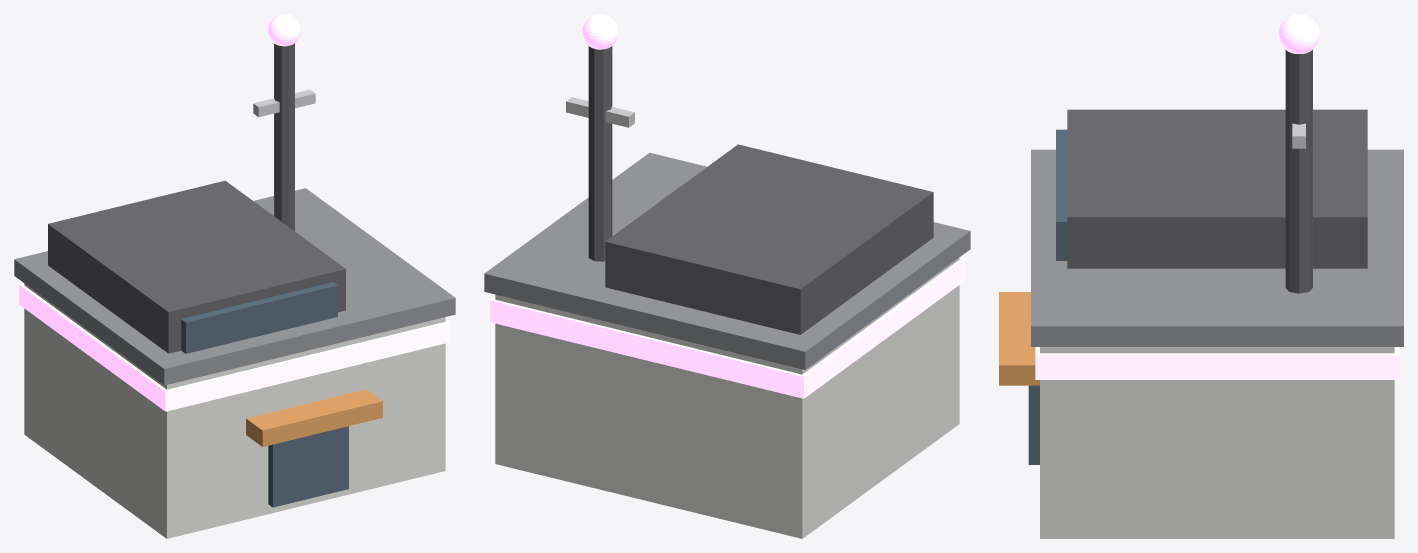
Rendered from media_studio.glb.
The picture shows the model from 3 angles, left to right: view 1: azimuth 30°, elevation 25°; view 2: azimuth 150°, elevation 25°; view 3: azimuth 270°, elevation 25°; orthographic projection. The views are drawn at different scales.
Visible parts, largest first — view 1: hall, loft, deck, neon_band, skylight, stage_door, marquee, tower, Beacon, crossbar; view 2: hall, loft, deck, neon_band, tower, Beacon, crossbar; view 3: hall, loft, deck, neon_band, tower, marquee, skylight, Beacon, stage_door.
Part boxes in pixels (x1,y1,x2,y2): hall: (24,283,445,538); loft: (48,180,345,353); deck: (14,188,455,385); neon_band: (19,283,450,411); skylight: (181,282,337,353); stage_door: (268,426,348,507); marquee: (246,389,382,446); tower: (274,43,294,231); Beacon: (268,14,300,46); crossbar: (253,89,315,117); hall: (495,257,959,538); loft: (605,144,933,334); deck: (484,152,970,369); neon_band: (490,258,964,398); tower: (588,46,612,261); Beacon: (582,14,618,49); crossbar: (566,97,634,127); hall: (1040,347,1394,538); loft: (1067,109,1367,268); deck: (1031,149,1403,346); neon_band: (1035,347,1399,379); tower: (1285,50,1312,293); marquee: (999,292,1039,385); skylight: (1056,129,1067,260); Beacon: (1279,14,1319,53); stage_door: (1028,385,1039,464).
Bounding box in the file's own units: 0.92 × 1.18 × 0.89.
